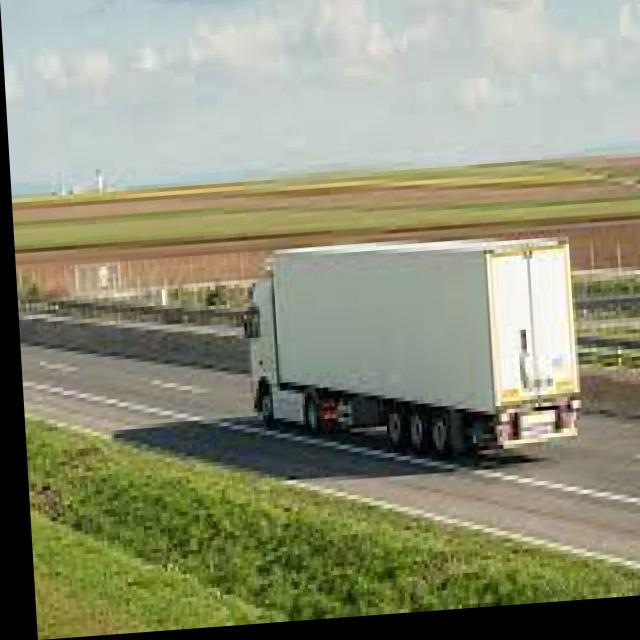covered: (236, 228, 583, 478)
